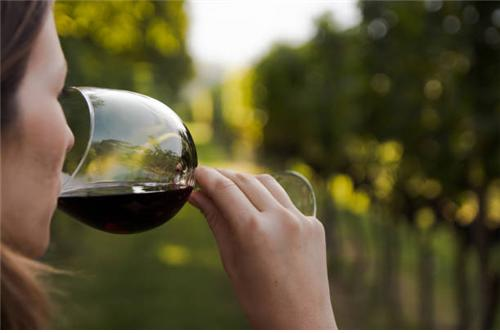alcohol: (58, 82, 316, 237)
